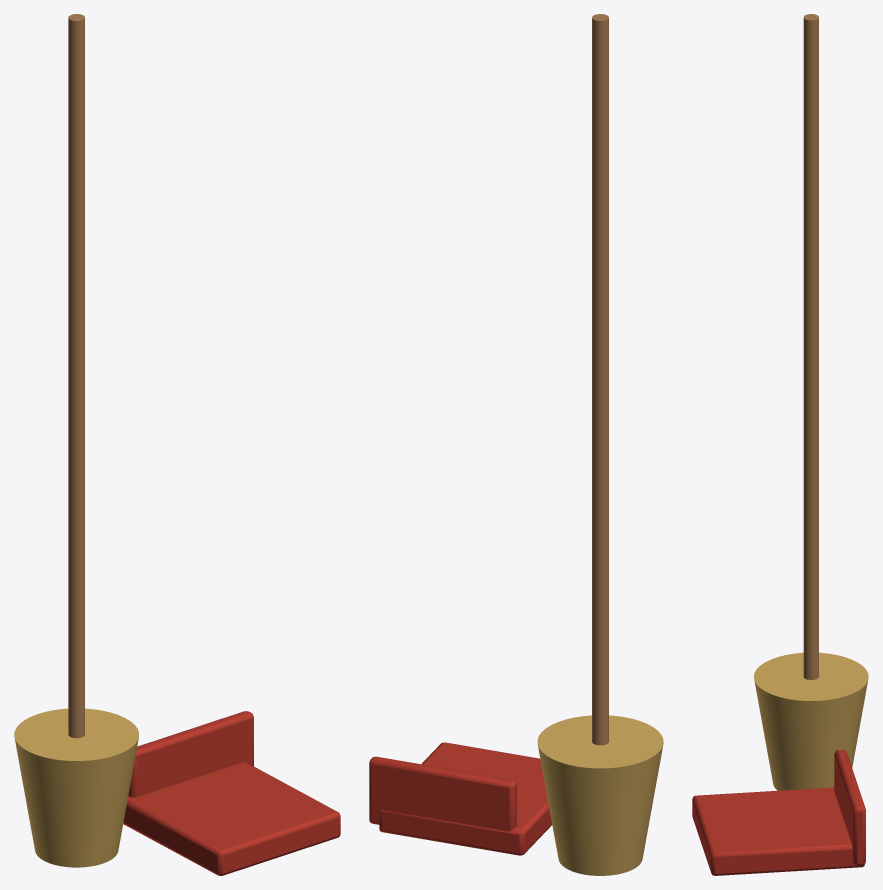
File: ChoiQuet_Ky.glb
The picture shows the model from 3 angles, left to right: view 1: azimuth 30°, elevation 25°; view 2: azimuth 150°, elevation 25°; view 3: azimuth 270°, elevation 25°; orthographic projection. The views are drawn at different scales.
Parts seen in each view (by area): view 1: ChoiQuet_Ky; view 2: ChoiQuet_Ky; view 3: ChoiQuet_Ky.
Boxes of the visible parts, box(x1,y1,x2,y2) form: ChoiQuet_Ky: box(14, 14, 340, 875); ChoiQuet_Ky: box(369, 14, 663, 875); ChoiQuet_Ky: box(692, 14, 868, 875).
Size of the model in its own units: 0.4333 by 1.3 by 0.2718.
